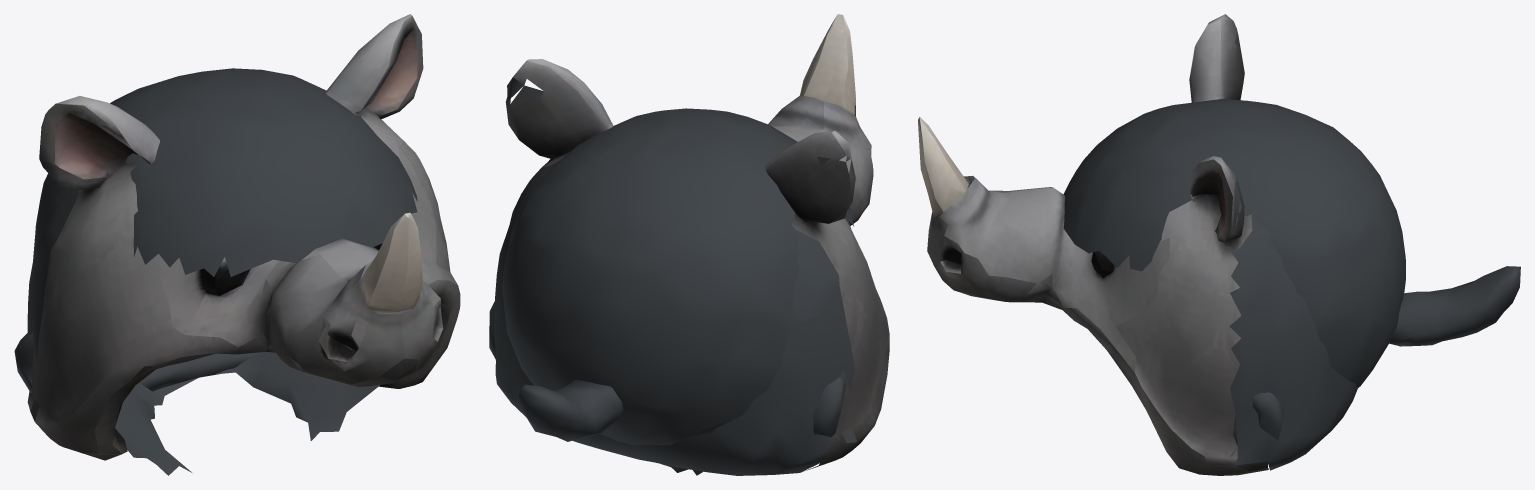
Rendered from rhino.glb.
The picture shows the model from 3 angles, left to right: view 1: azimuth 30°, elevation 25°; view 2: azimuth 150°, elevation 25°; view 3: azimuth 270°, elevation 25°; orthographic projection. The views are drawn at different scales.
Parts seen in each view (by area): view 1: geometry_0, HoodAnatomicalLining; view 2: HoodAnatomicalLining, geometry_0; view 3: geometry_0, HoodAnatomicalLining.
Boxes of the visible parts, x1=… form: geometry_0: x1=27, y1=14, x2=460, y2=460; HoodAnatomicalLining: x1=14, y1=68, x2=417, y2=475; HoodAnatomicalLining: x1=489, y1=108, x2=853, y2=475; geometry_0: x1=494, y1=14, x2=889, y2=475; geometry_0: x1=918, y1=14, x2=1520, y2=475; HoodAnatomicalLining: x1=1063, y1=99, x2=1405, y2=445.
Size of the model in its own units: 0.4795 by 0.4501 by 0.7065.
2 materials, 1 textured.
